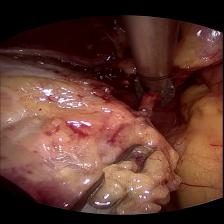Clipper: (127, 68, 191, 115)
Grasper: (62, 136, 168, 211)
